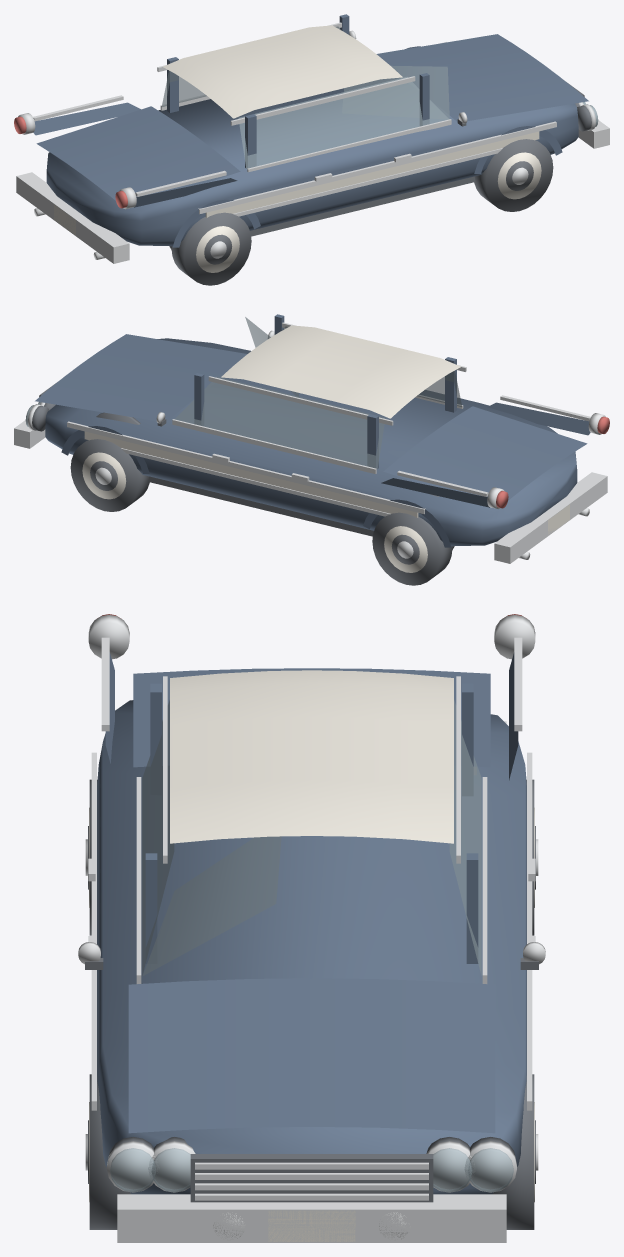
Rendered from sedan-envelope-muse-1117.glb.
3 views of the same model, one above another, from view 1: azimuth 30°, elevation 25°; view 2: azimuth 150°, elevation 25°; view 3: azimuth 270°, elevation 25° (orthographic). The views are drawn at different scales.
Parts seen in each view (by area): view 1: SedanJoined_SedanBody, SedanJoined_SedanCream, SedanJoined_SedanChrome, SedanJoined_SedanGlass, SedanJoined_SedanTrimDark, SedanJoined_SedanSignalRed; view 2: SedanJoined_SedanBody, SedanJoined_SedanCream, SedanJoined_SedanChrome, SedanJoined_SedanGlass, SedanJoined_SedanTrimDark, SedanJoined_SedanSignalRed; view 3: SedanJoined_SedanBody, SedanJoined_SedanCream, SedanJoined_SedanChrome, SedanJoined_SedanGlass, SedanJoined_SedanTrimDark.
Part boxes in pixels (box(x1,y1,x2,y2)): SedanJoined_SedanBody: box(33, 14, 588, 247); SedanJoined_SedanCream: box(54, 25, 541, 272); SedanJoined_SedanChrome: box(16, 22, 609, 263); SedanJoined_SedanGlass: box(161, 26, 598, 168); SedanJoined_SedanTrimDark: box(169, 83, 591, 285); SedanJoined_SedanSignalRed: box(14, 116, 127, 208); SedanJoined_SedanBody: box(35, 314, 590, 547); SedanJoined_SedanCream: box(82, 325, 569, 572); SedanJoined_SedanChrome: box(14, 322, 607, 563); SedanJoined_SedanGlass: box(25, 317, 462, 468); SedanJoined_SedanTrimDark: box(32, 383, 454, 585); SedanJoined_SedanSignalRed: box(496, 416, 609, 508); SedanJoined_SedanBody: box(97, 652, 526, 1194); SedanJoined_SedanCream: box(89, 670, 534, 1241); SedanJoined_SedanChrome: box(78, 614, 545, 1242); SedanJoined_SedanGlass: box(110, 700, 513, 1192); SedanJoined_SedanTrimDark: box(85, 767, 538, 1229).
Size of the model in its own units: 5 by 1.45 by 2.04.
